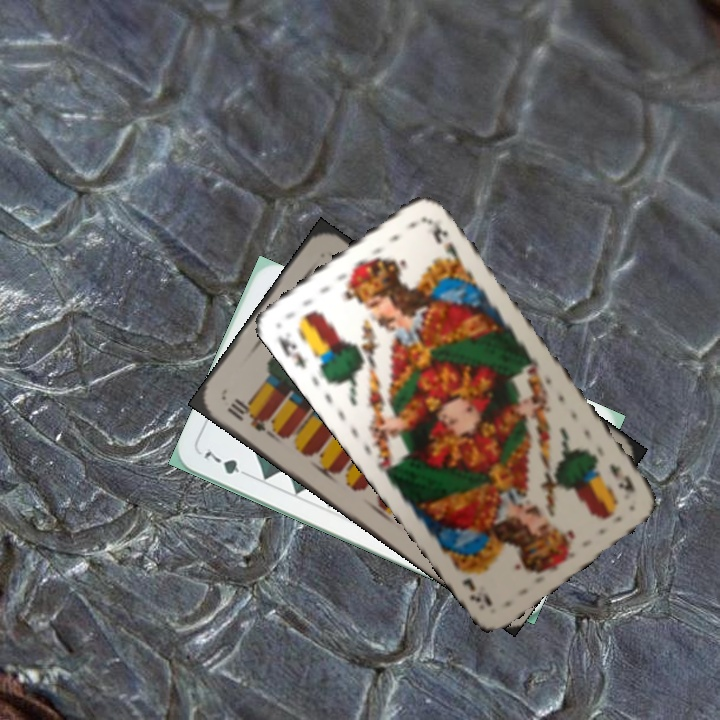E10: (222, 395, 270, 434)
EK: (273, 331, 309, 372), (605, 460, 638, 496)
G7: (200, 445, 255, 481)
